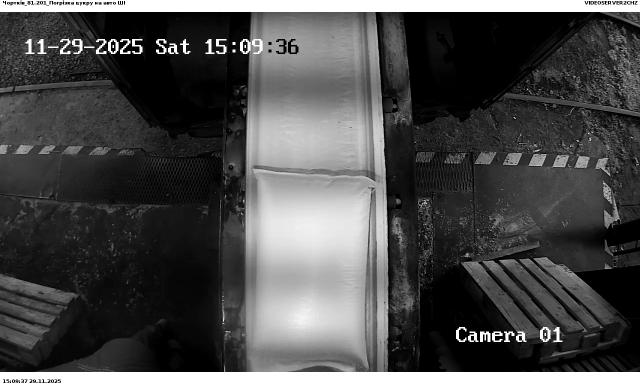bag: (252, 168, 377, 373)
